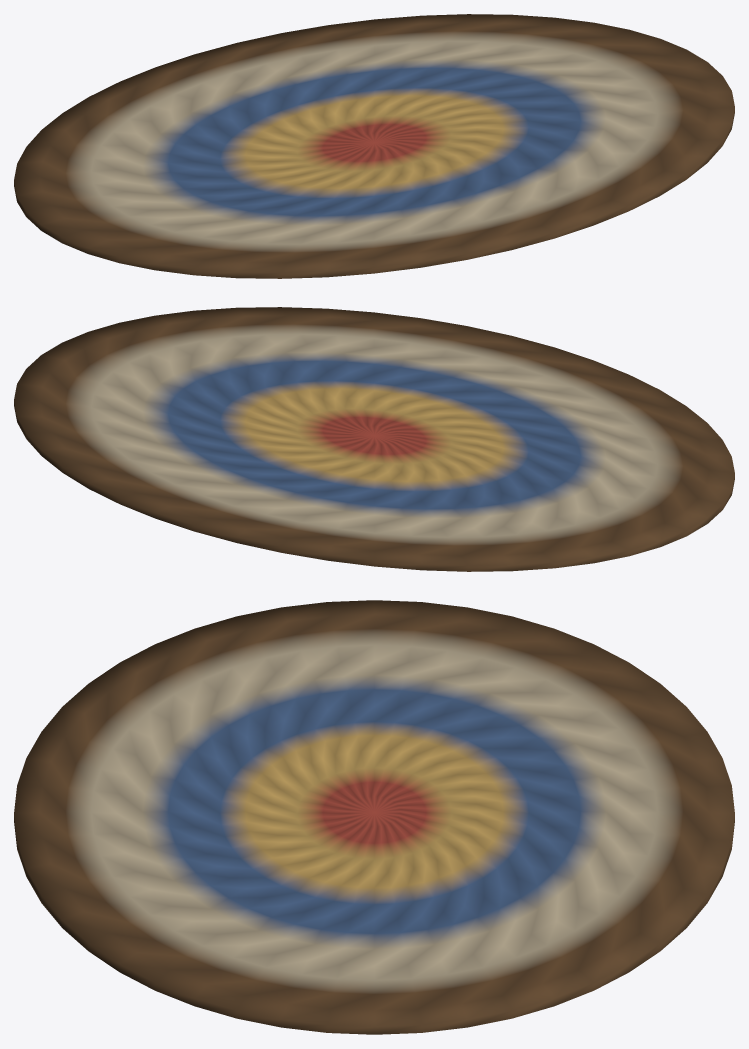
File: Hut_Rug.fbx
The picture shows the model from 3 angles, top to bottom: view 1: azimuth 30°, elevation 25°; view 2: azimuth 150°, elevation 25°; view 3: azimuth 270°, elevation 25°; orthographic projection. The views are drawn at different scales.
Parts seen in each view (by area): view 1: Hut_Rug; view 2: Hut_Rug; view 3: Hut_Rug.
Boxes of the visible parts, box(x1,y1,x2,y2) form: Hut_Rug: box(14, 14, 734, 278); Hut_Rug: box(14, 307, 734, 571); Hut_Rug: box(14, 600, 734, 1034).
Size of the model in its own units: 56 by 0.61 by 40.
